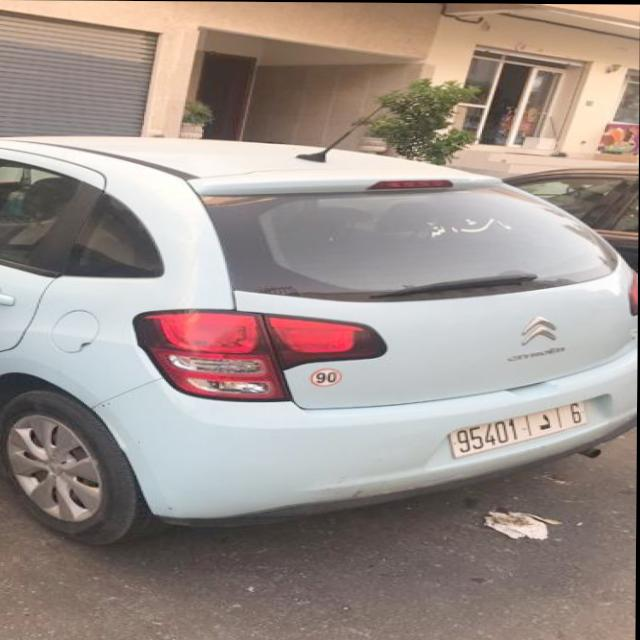License-Plate: (451, 402, 586, 457)
